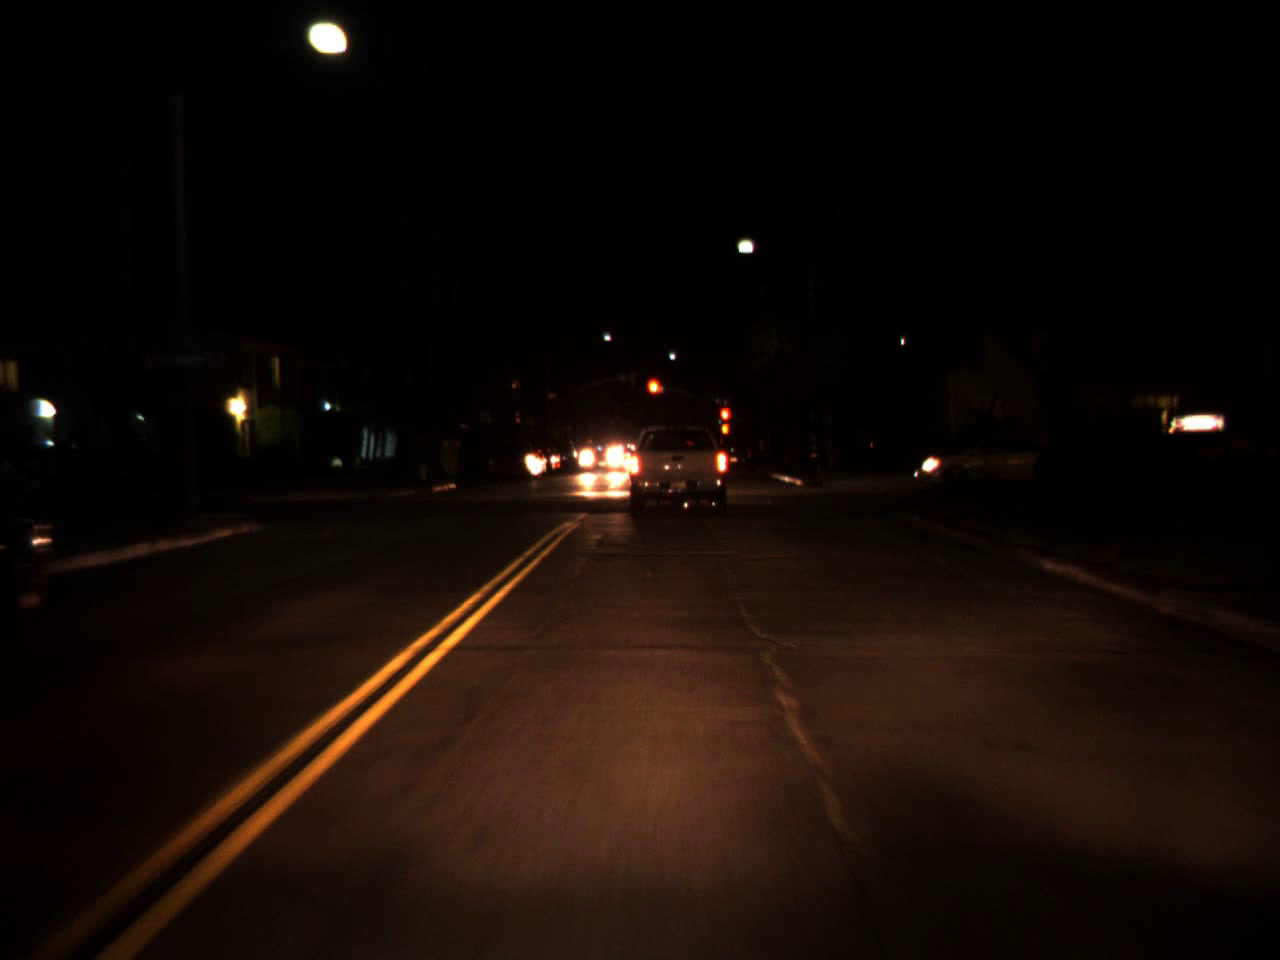stop: (644, 376, 663, 411), (718, 405, 731, 437)
